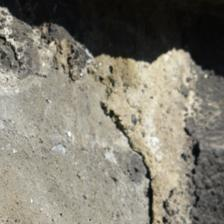Crack: (104, 102, 158, 221), (5, 19, 99, 84)
